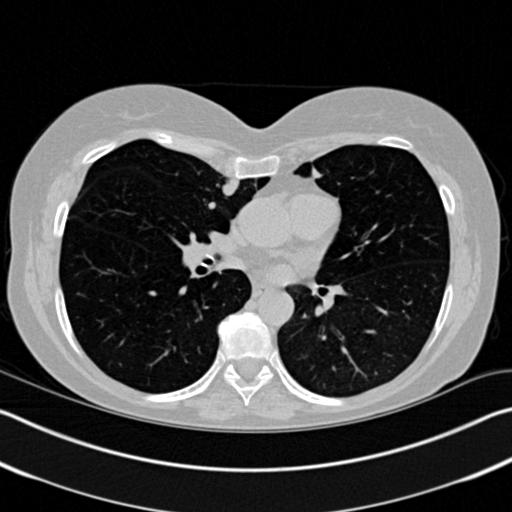nodule: (206, 199, 219, 212)
